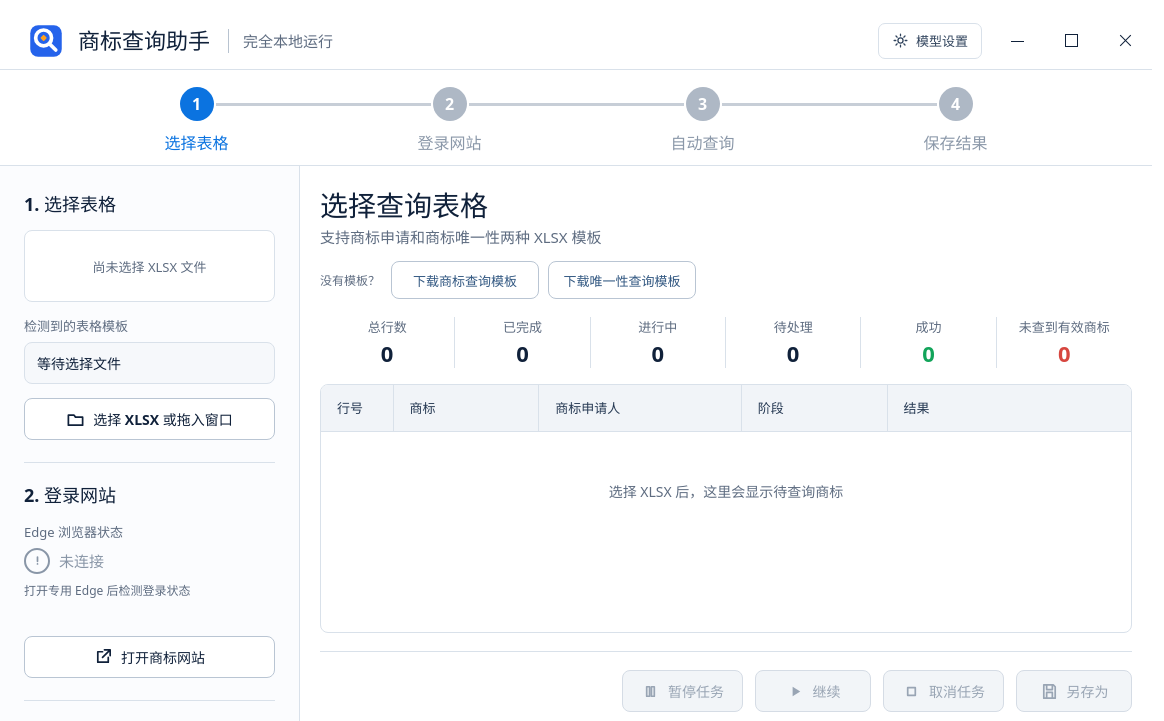
App › 专用 Edge 登录后检查状态并启用开始按钮
Click the button with test id "select-file".
click(150, 419)  # box [24,398,275,440]
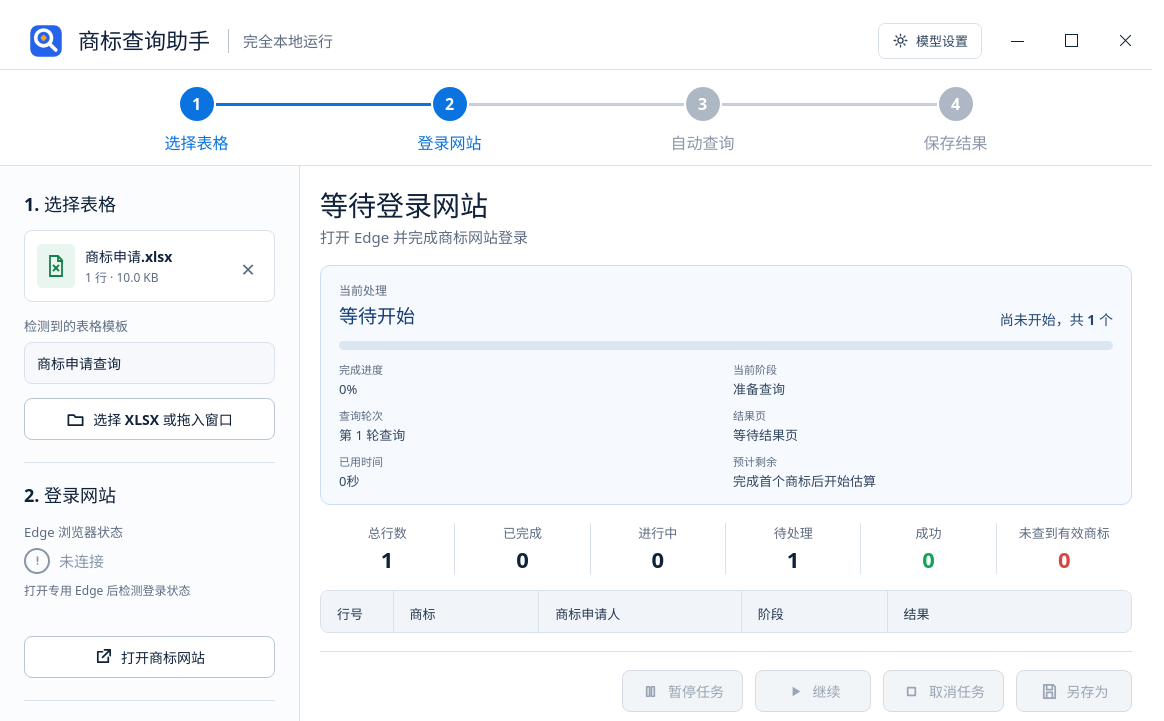
Click the button with test id "open-browser".
click(150, 657)  # box [24,636,275,678]
(page scrolled)
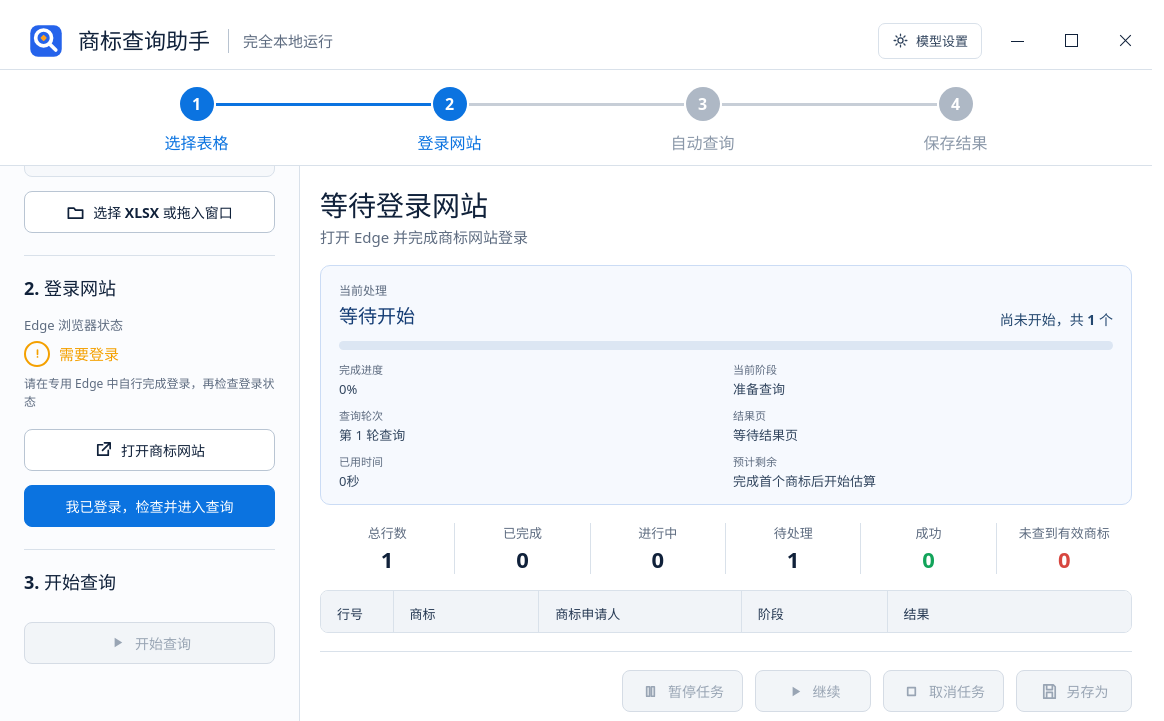
Expected: the text "请在专用 Edge 中自行完成登录" is shown, [24,375,274,410]
Expected: the button with test id "start-task" is disabled, [24,622,275,664]
Click the button with test id "connect-browser".
click(150, 506)  # box [24,485,275,527]
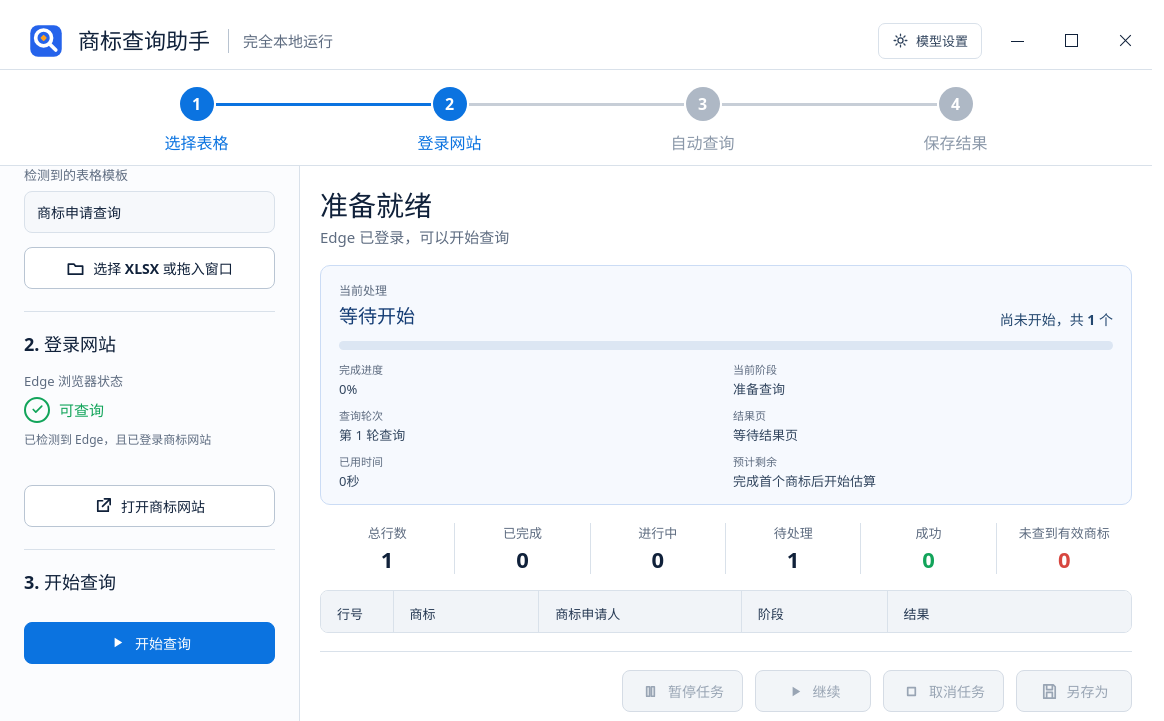
Expected: the button with test id "start-task" is enabled, [24,622,275,664]
